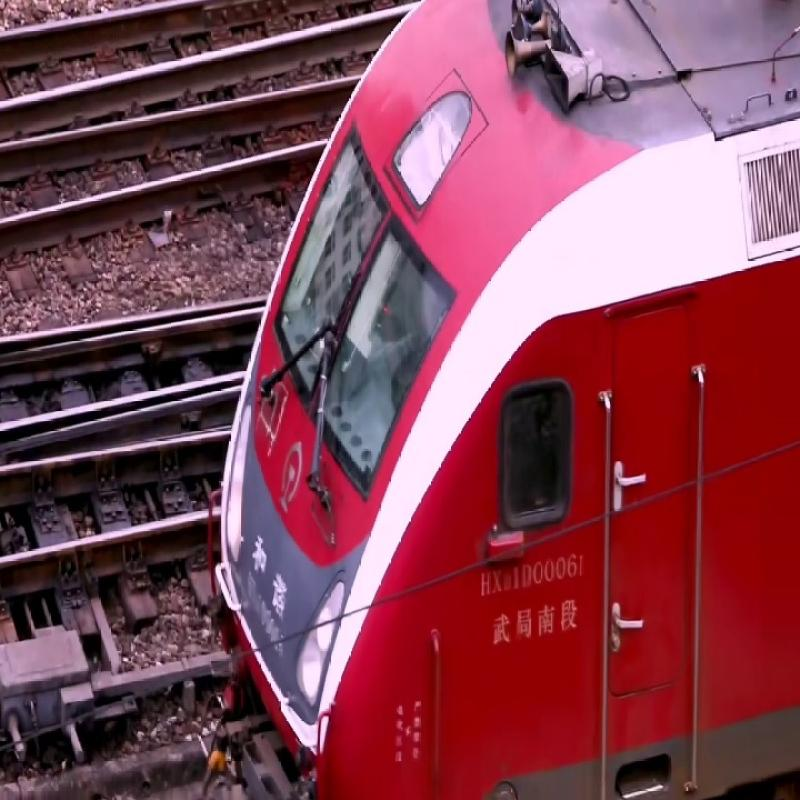train: (233, 2, 800, 776)
